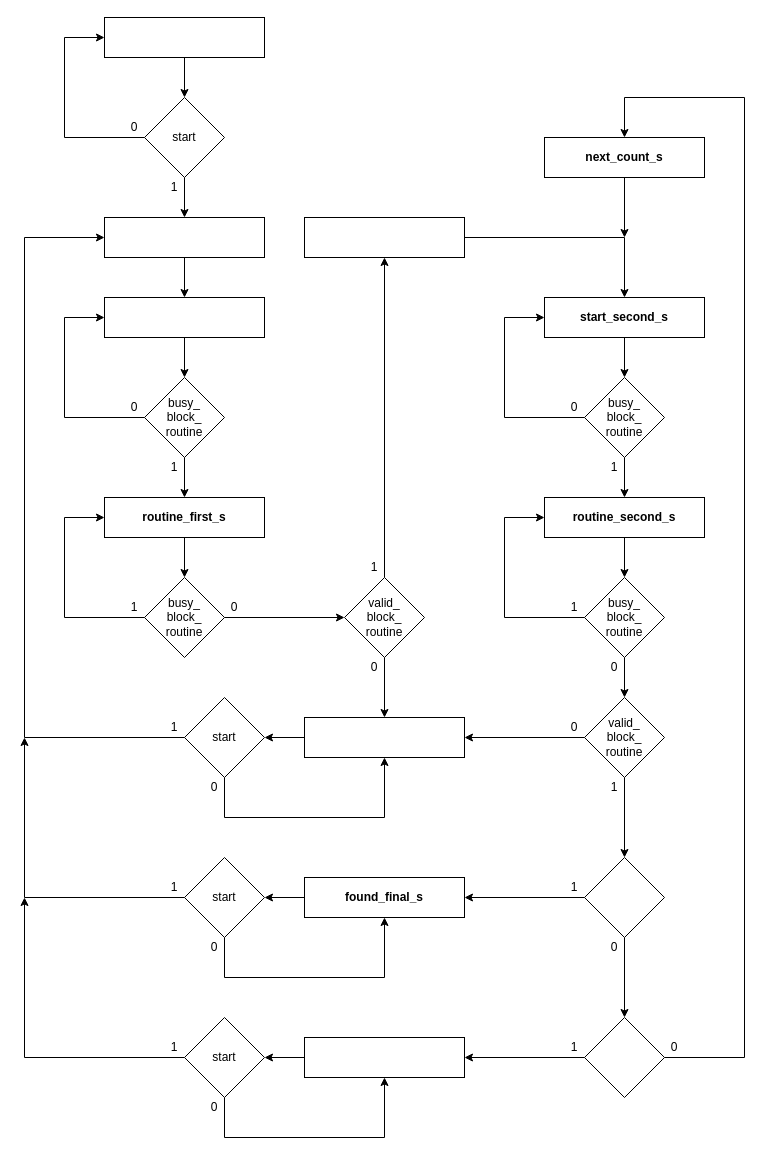
Image size: 770x1163. Some labels were removed from this diagram. The centre of each missing label's shape, as x and y in pixels:
"error_s" belongs at (x=384, y=737).
"load_s" belongs at (x=184, y=237).
"nonce_tc" belongs at (x=624, y=1057).
"overflow_final_s" belongs at (x=384, y=1057).
"start_first_s" belongs at (x=184, y=317).
"update_midh_s" belongs at (x=384, y=237).
"wait_s" belongs at (x=184, y=37).
"you_ won" belongs at (x=624, y=897).
